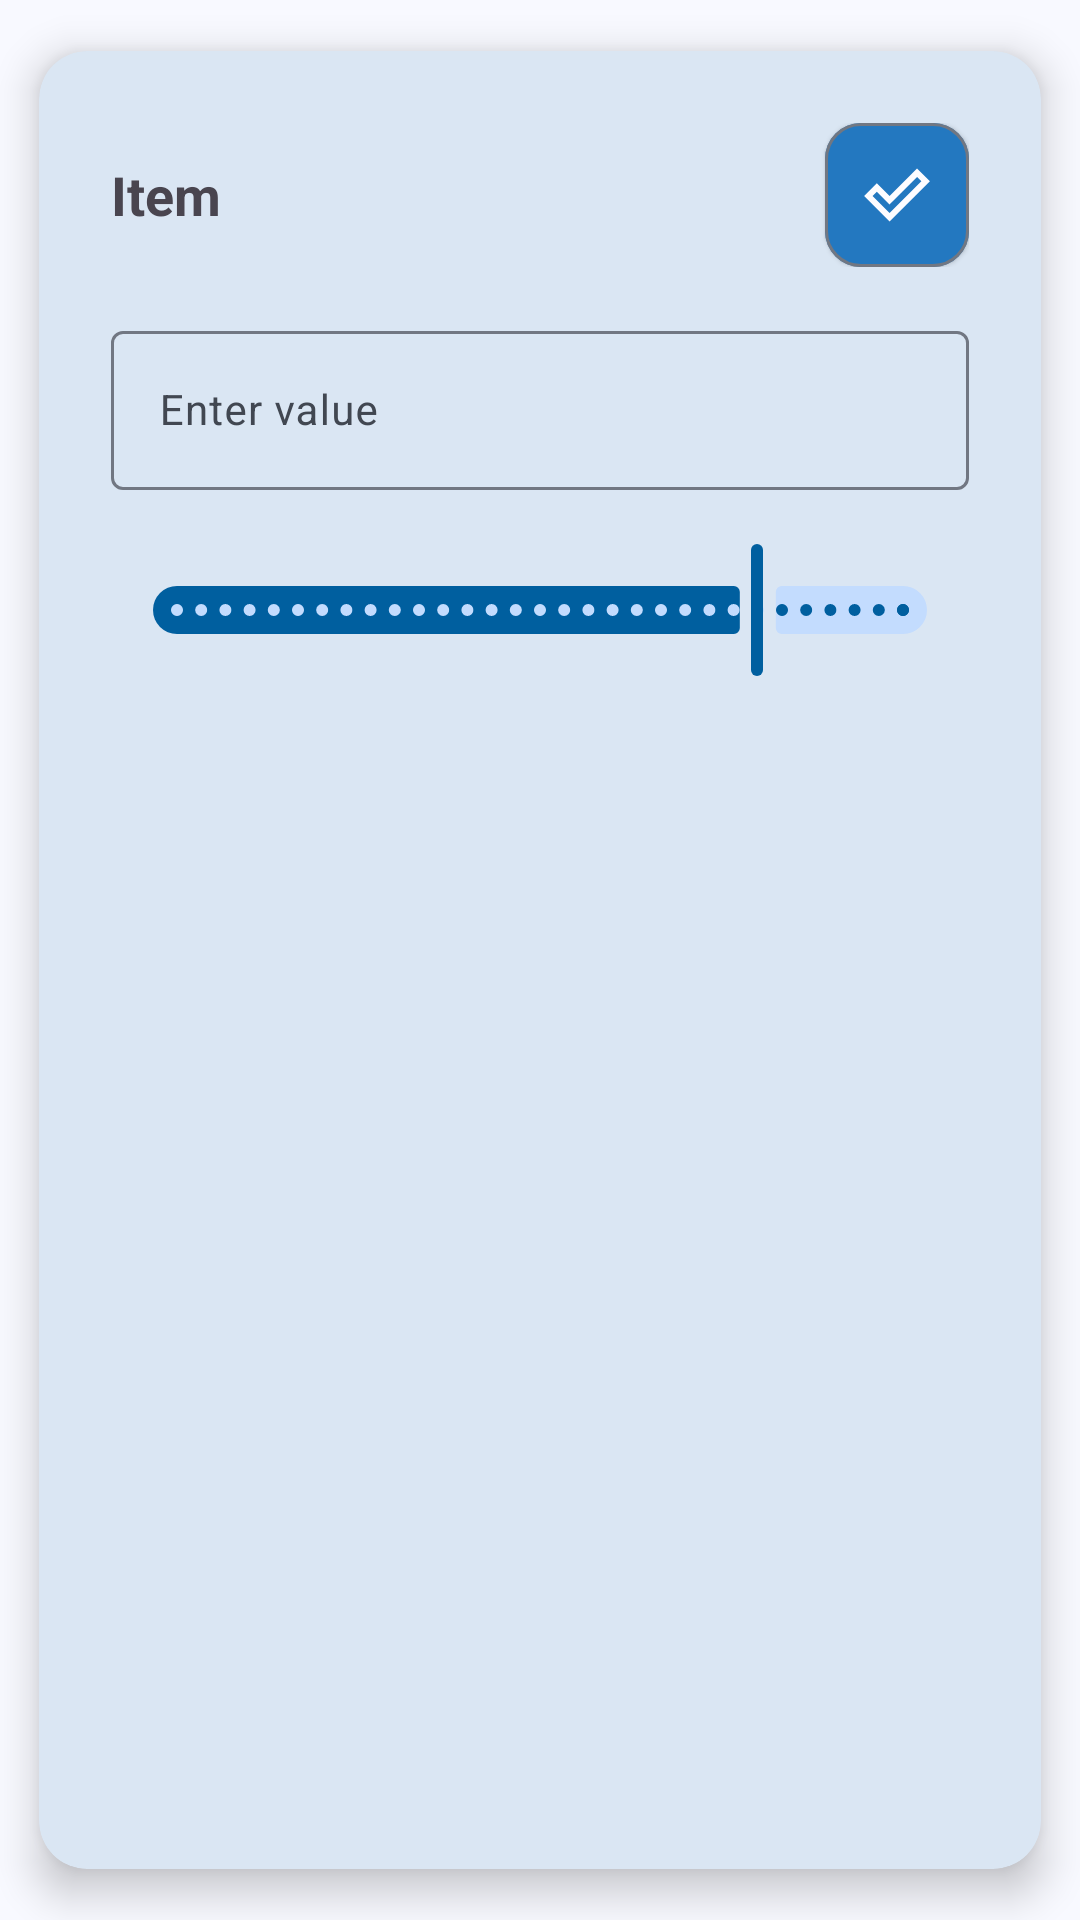

Named icons in this screenshot (1080 x 1920) and their bounding boxes, (x1, y1, x2, y2):
done: (825, 123, 969, 267)
